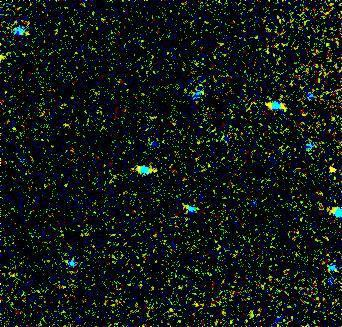star: (320, 154, 342, 184)
